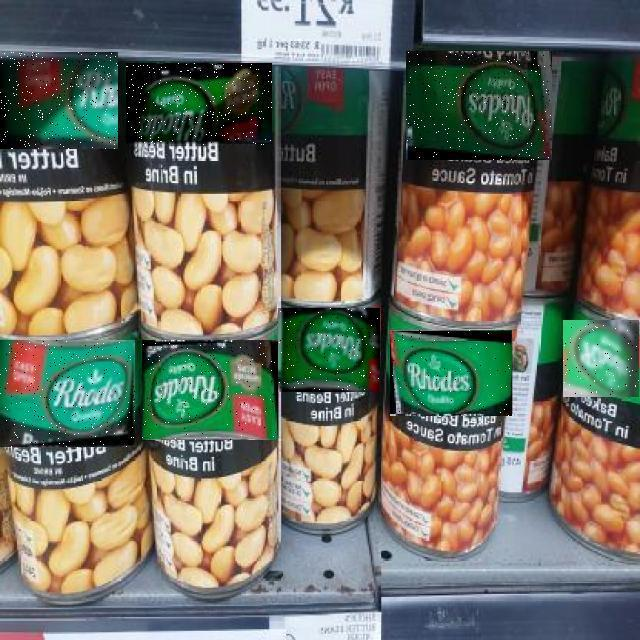Beans: (406, 51, 552, 160), (0, 340, 135, 447), (142, 340, 278, 440), (126, 64, 272, 146), (0, 52, 118, 149), (390, 330, 512, 416), (278, 308, 380, 392), (563, 320, 639, 397)
